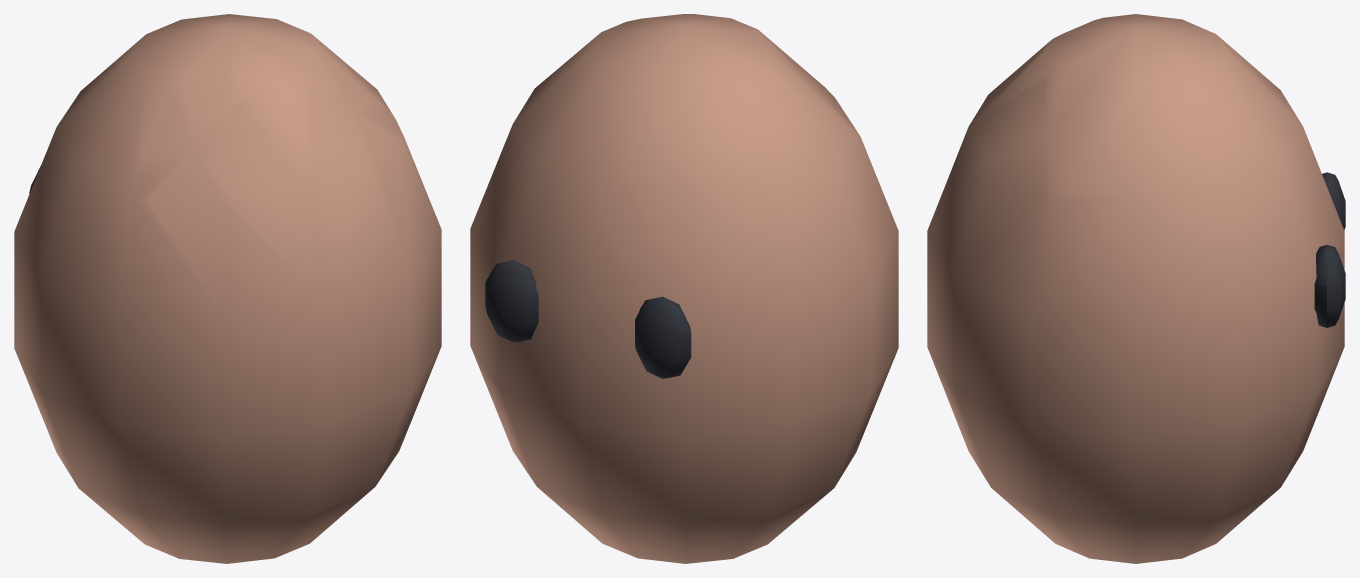
Rendered from gorehulk_b_head.obj.
The picture shows the model from 3 angles, left to right: view 1: azimuth 30°, elevation 25°; view 2: azimuth 150°, elevation 25°; view 3: azimuth 270°, elevation 25°; orthographic projection.
Visible parts, largest first — view 1: source_component_000; view 2: source_component_000, source_component_001, source_component_002; view 3: source_component_000, source_component_002, source_component_001.
Part boxes in pixels (x1,y1,x2,y2): source_component_000: (14, 14, 441, 563); source_component_000: (470, 14, 898, 563); source_component_001: (635, 296, 691, 378); source_component_002: (485, 260, 538, 342); source_component_000: (927, 14, 1344, 563); source_component_002: (1314, 244, 1345, 327); source_component_001: (1322, 172, 1345, 229).
Size of the model in its own units: 0.351 by 0.47 by 0.3422.
